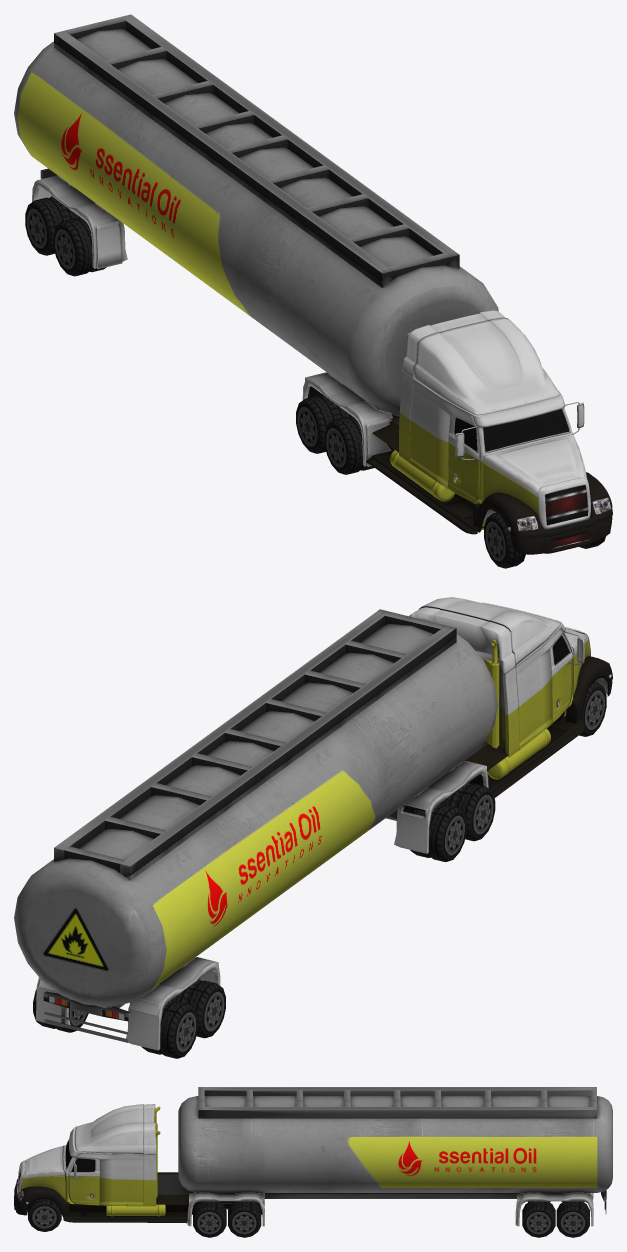
Rendered from truck06.fbx.
3 views of the same model, one above another, from view 1: azimuth 30°, elevation 25°; view 2: azimuth 150°, elevation 25°; view 3: azimuth 270°, elevation 25° (orthographic). The views are drawn at different scales.
Visible parts, largest first — view 1: polySurface59, polySurface61, polySurface5, pCylinder15, pCylinder12, pCylinder14, pCylinder18, pPlane3, pCylinder2; view 2: polySurface59, polySurface61, pCylinder14, pCylinder18, pCylinder12, pCylinder15, pCylinder2; view 3: polySurface59, polySurface61, pCylinder11, pCylinder16, pCylinder13, pCylinder17, pCylinder1, polySurface5.
Boxes of the visible parts, x1,y1,x2,y2 form: polySurface59: (14, 14, 498, 414); polySurface61: (302, 310, 612, 554); polySurface5: (454, 409, 611, 531); pCylinder15: (53, 217, 106, 276); pCylinder12: (324, 415, 374, 474); pCylinder14: (296, 394, 350, 453); pCylinder18: (25, 196, 79, 255); pPlane3: (545, 485, 589, 548); pCylinder2: (484, 512, 525, 568); polySurface59: (14, 609, 497, 1050); polySurface61: (386, 597, 612, 853); pCylinder14: (410, 803, 466, 861); pCylinder18: (141, 1000, 197, 1058); pCylinder12: (440, 782, 495, 841); pCylinder15: (172, 979, 225, 1038); pCylinder2: (579, 681, 606, 736); polySurface59: (178, 1087, 612, 1226); polySurface61: (14, 1104, 264, 1226); pCylinder11: (193, 1201, 226, 1237); pCylinder16: (522, 1201, 555, 1237); pCylinder13: (228, 1201, 261, 1237); pCylinder17: (556, 1201, 589, 1237); pCylinder1: (28, 1199, 61, 1231); polySurface5: (18, 1141, 95, 1201).
Size of the model in its own units: 262 by 329 by 1485.
5 materials, 5 textured.
